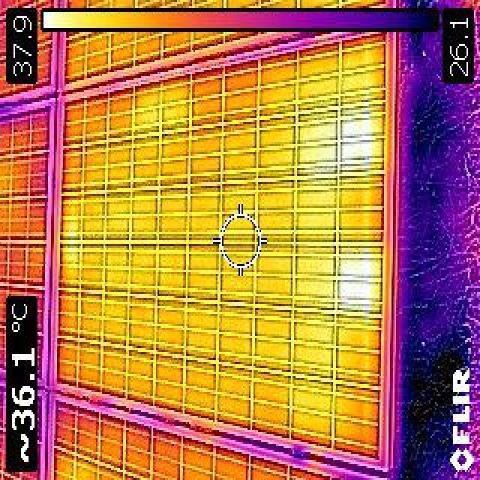fault: (336, 254, 382, 305), (341, 122, 385, 167)
